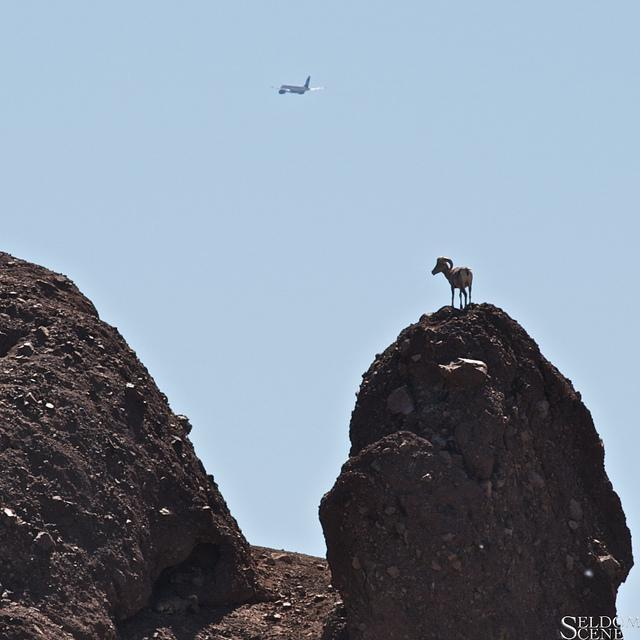Sheep: (432, 257, 473, 312)
